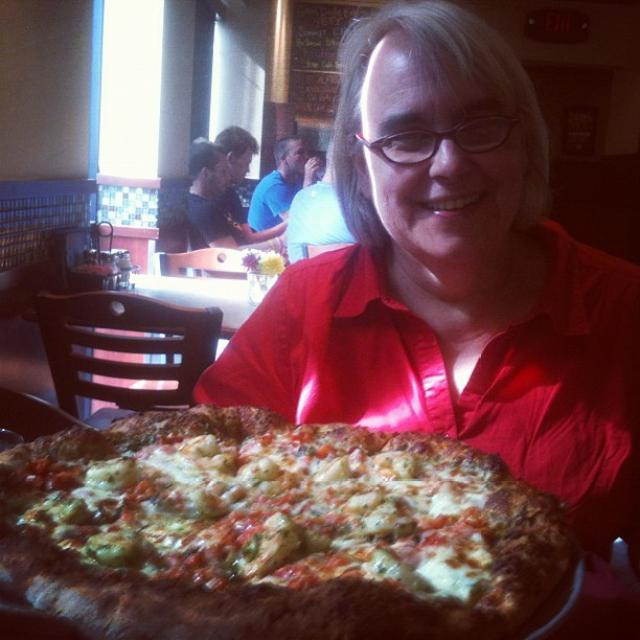chair: (33, 292, 223, 423), (2, 385, 77, 444), (154, 249, 259, 276), (67, 232, 112, 278), (303, 244, 354, 258)
dining table: (134, 274, 252, 338)
